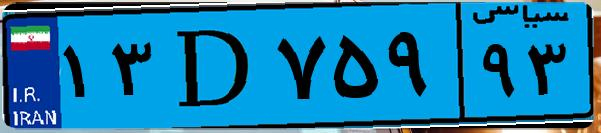1: (57, 26, 110, 100)
3: (525, 38, 570, 115), (110, 28, 158, 98)
5: (330, 28, 385, 110)
7: (270, 28, 330, 110)
9: (385, 28, 445, 110), (475, 38, 525, 113)
D: (158, 12, 270, 120)
